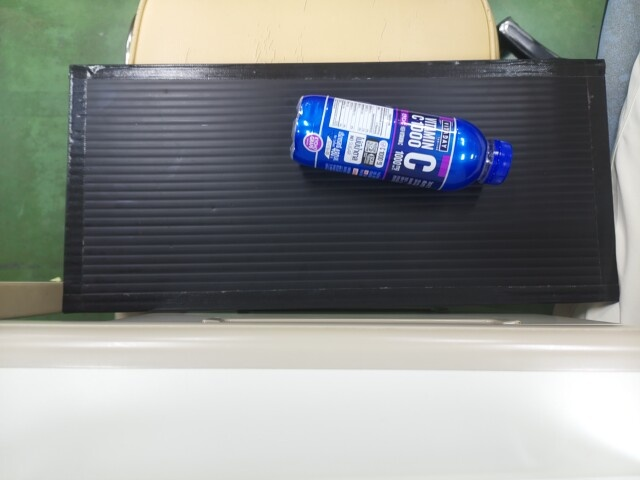plastic_bottle: (289, 88, 513, 189)
